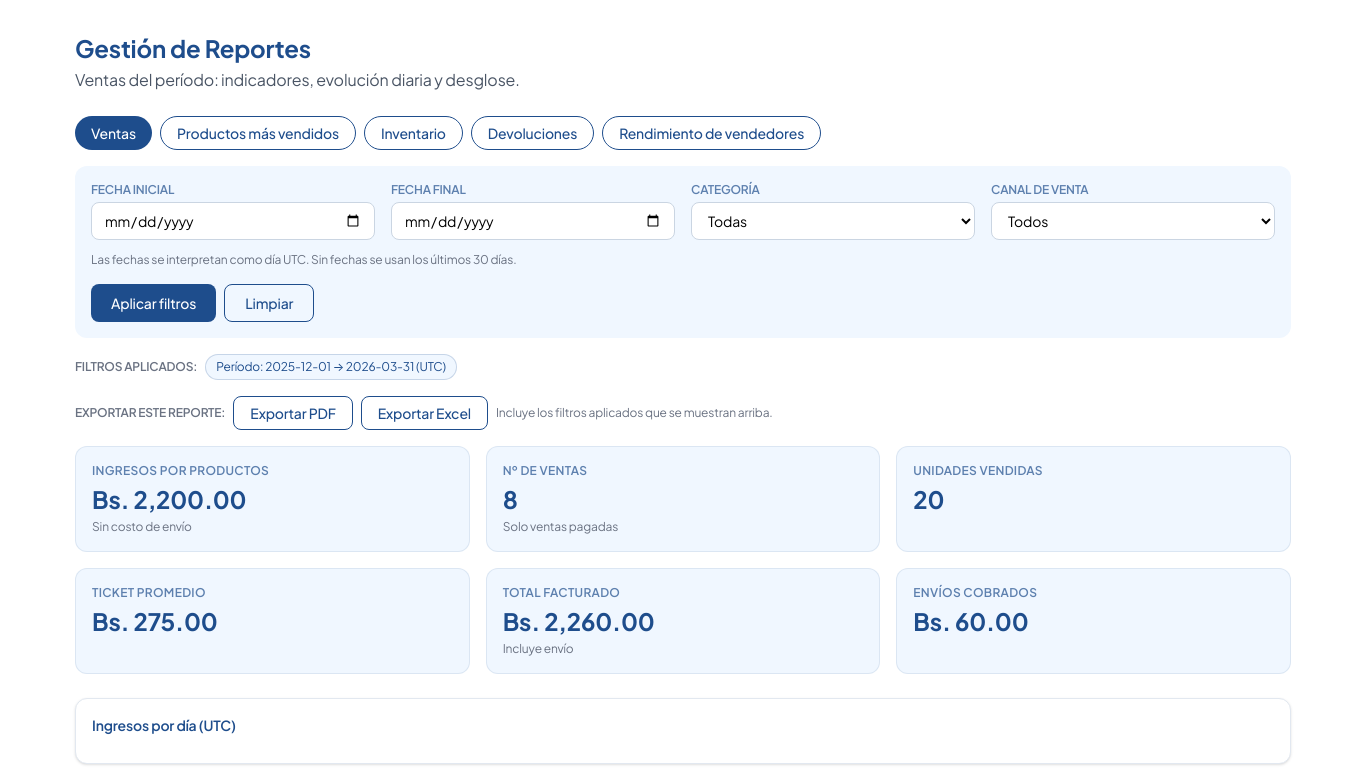
Scenario: ReportesComponent › errores › 422 (regla de negocio): muestra el detail y conserva los filtros para corregirlos
This screenshot has width=1366, height=768.
Type "2026-03-01" into the date field labelled "Fecha inicial" at [233, 221], box [91,202,375,240]
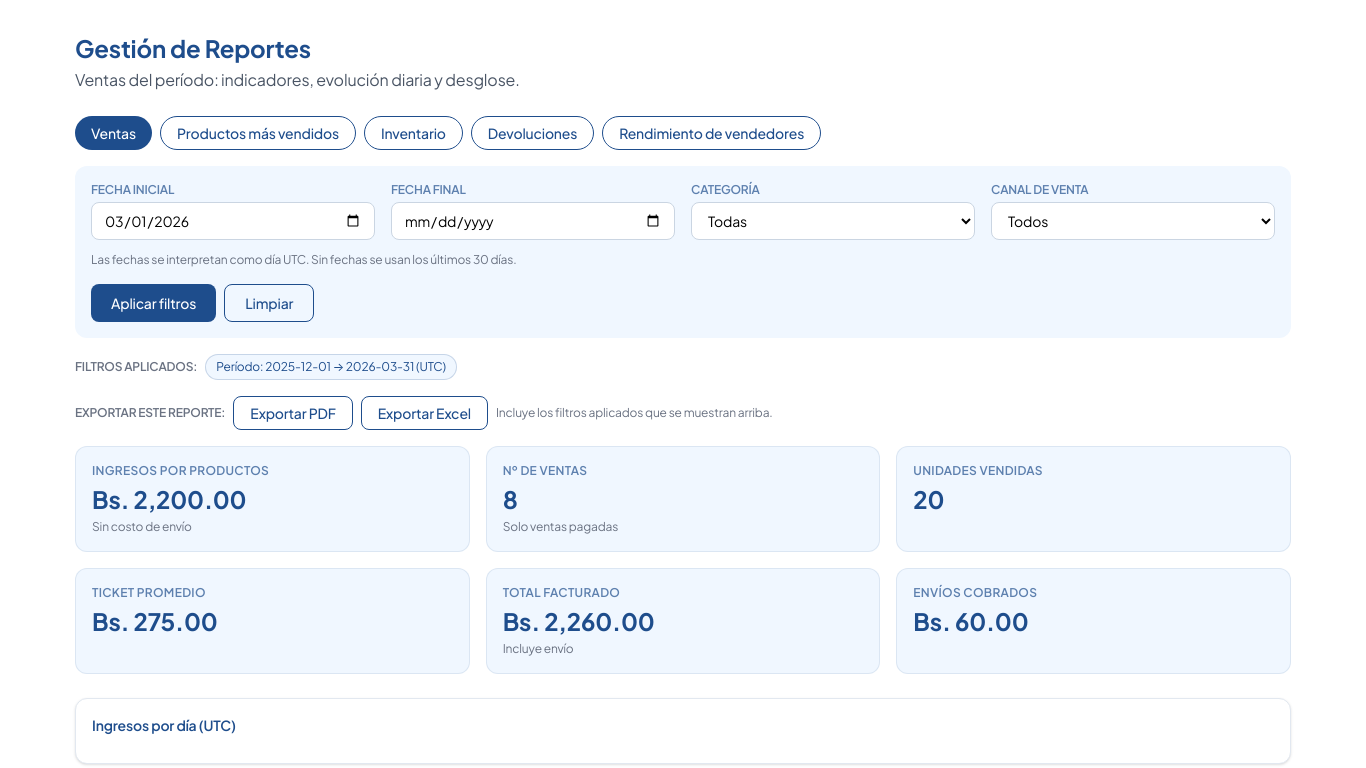
Type "2026-02-01" into the date field labelled "Fecha final" at [533, 221], box [391,202,675,240]
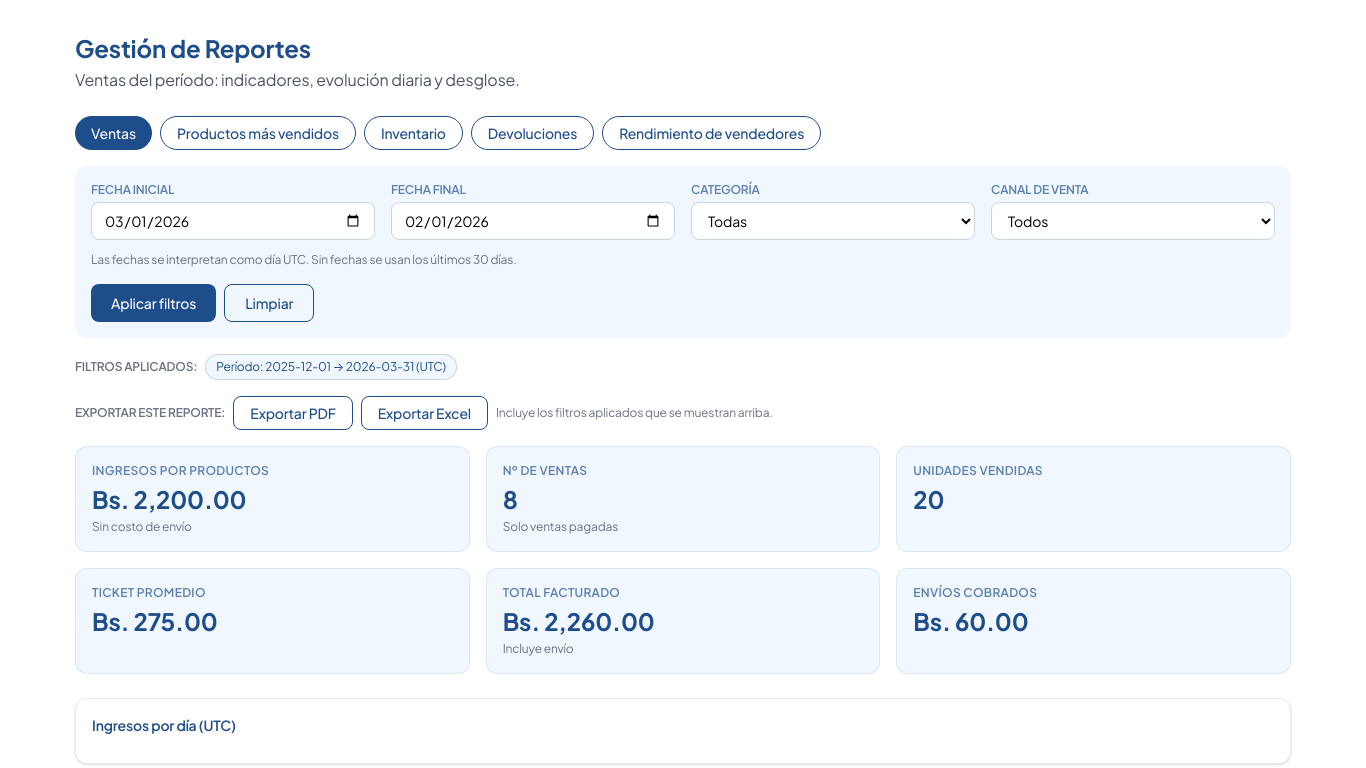
Click the button "Aplicar filtros" at [154, 303], box [91,284,216,322]
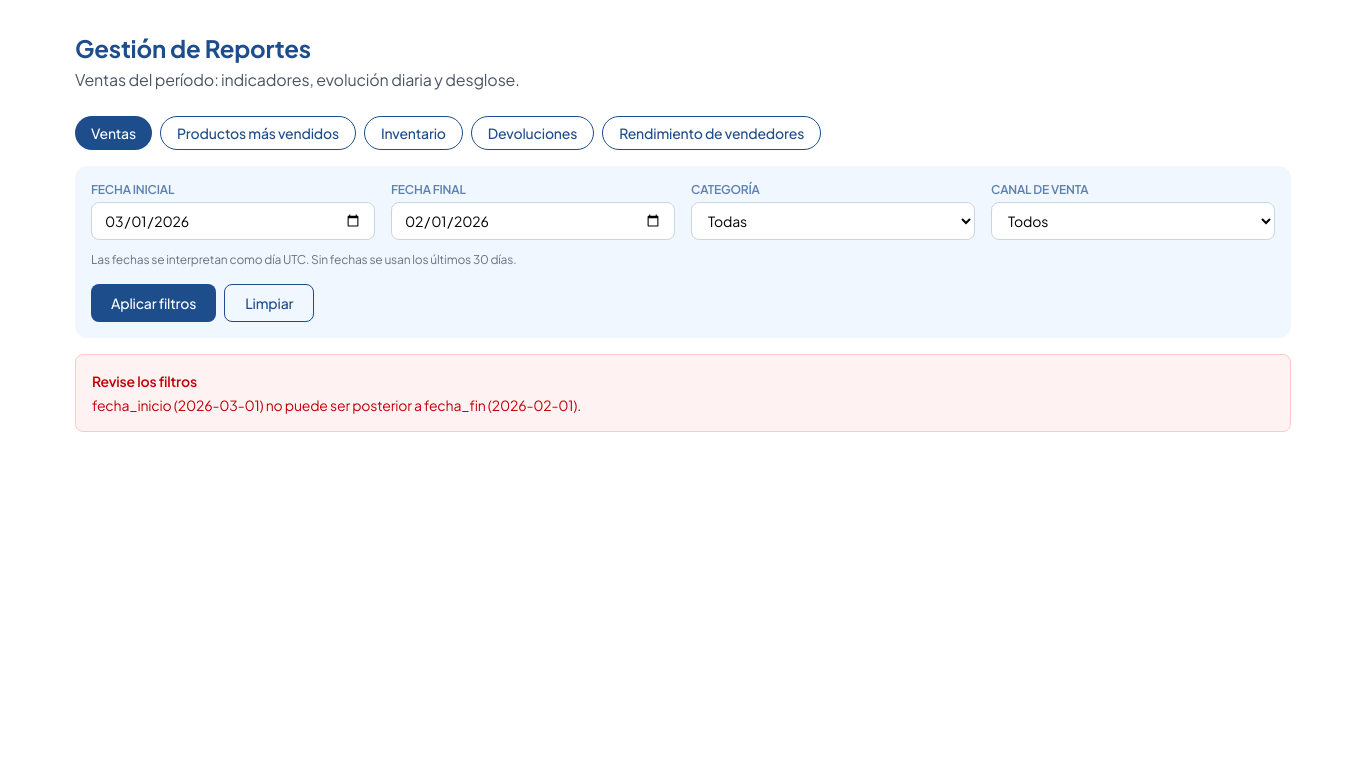
Check: the text "Revise los filtros" is shown, box [92,372,197,390]
